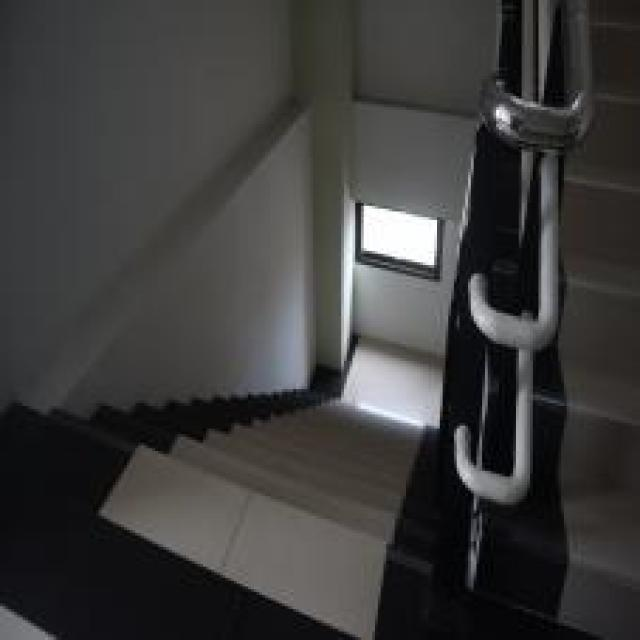downstair: (88, 297, 421, 638)
